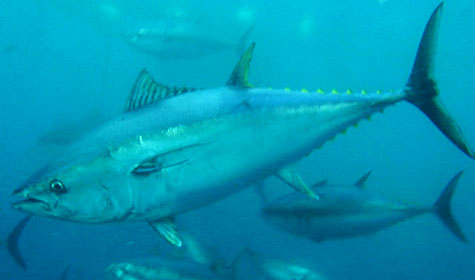Bluefina Tuna: (8, 1, 475, 251)
